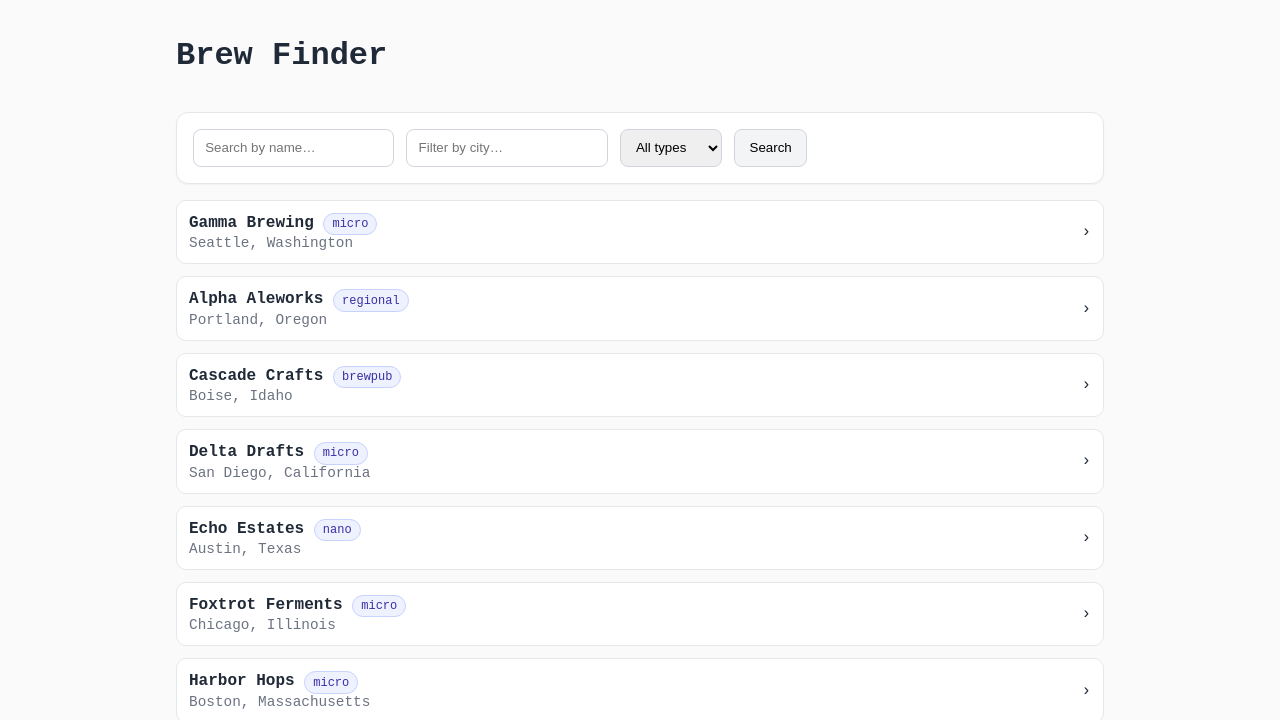
Brewery Finder › loads breweries and opens the details modal
This screenshot has width=1280, height=720.
Check: the button "Gamma Brewing" is shown, box [189,214,314,232]
Click the button "Gamma Brewing" at (251,223), box [176,200,1104,264]
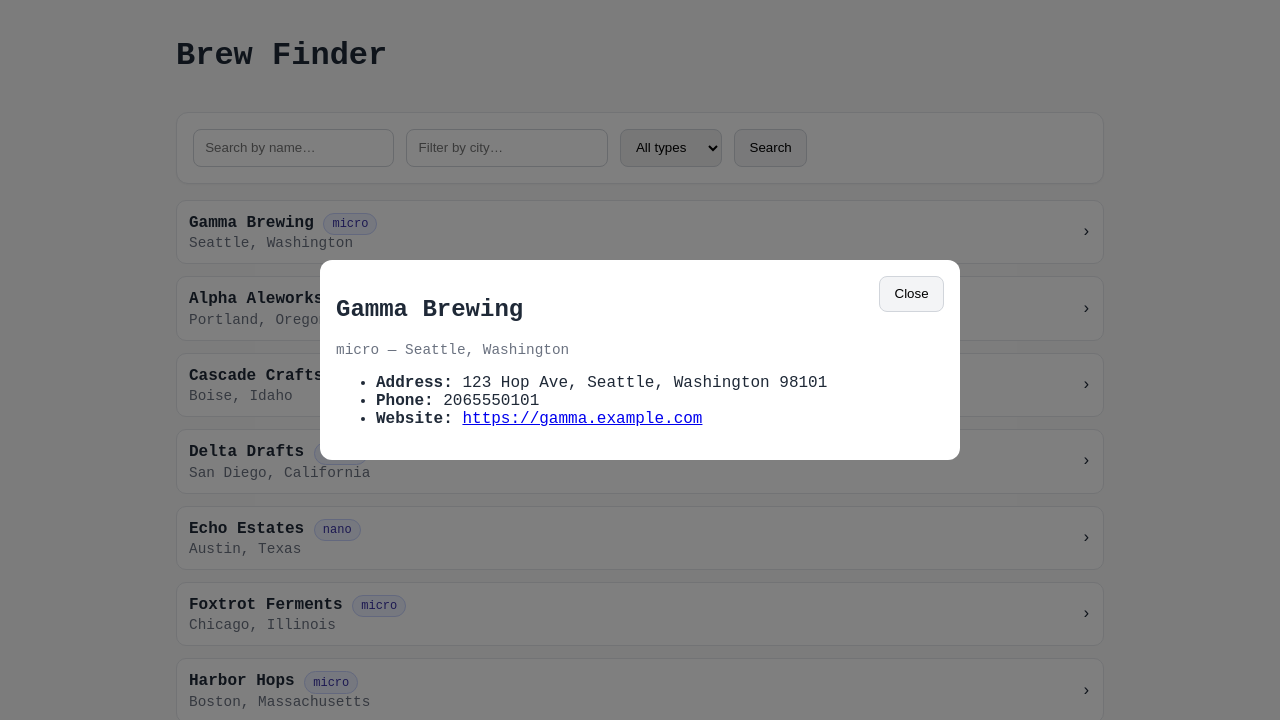
Check: the element with class "modal" is shown, box [320,260,960,461]
Check: the heading "Gamma Brewing" is shown, box [336,296,523,322]
Click the button "Close" at (912,294), box [879,276,944,312]
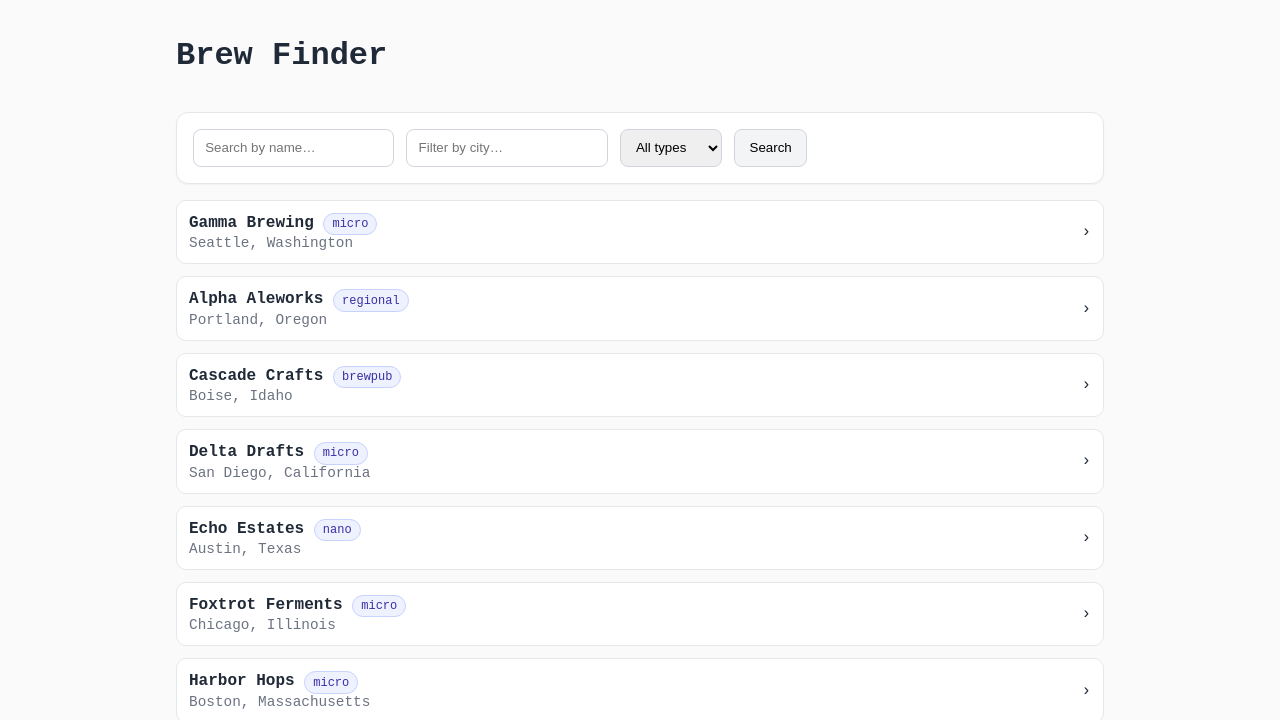
Check: the element with class "modal" is gone
